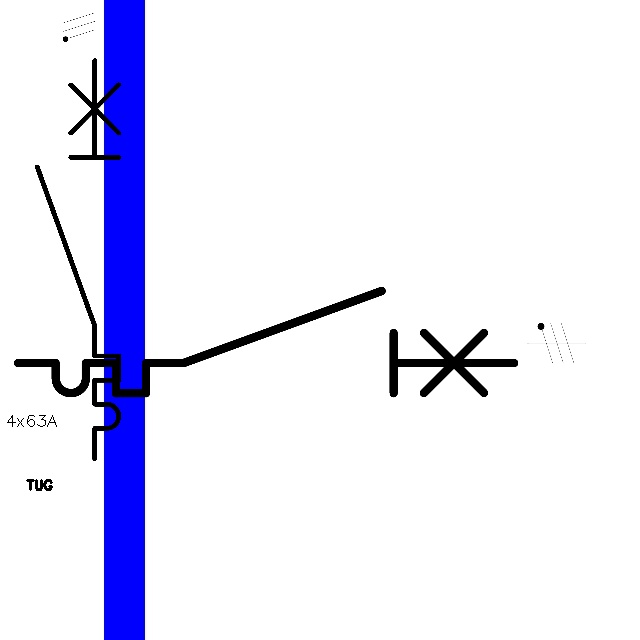interruptor_termomagnetico: (5, 278, 527, 406), (27, 50, 129, 468)
